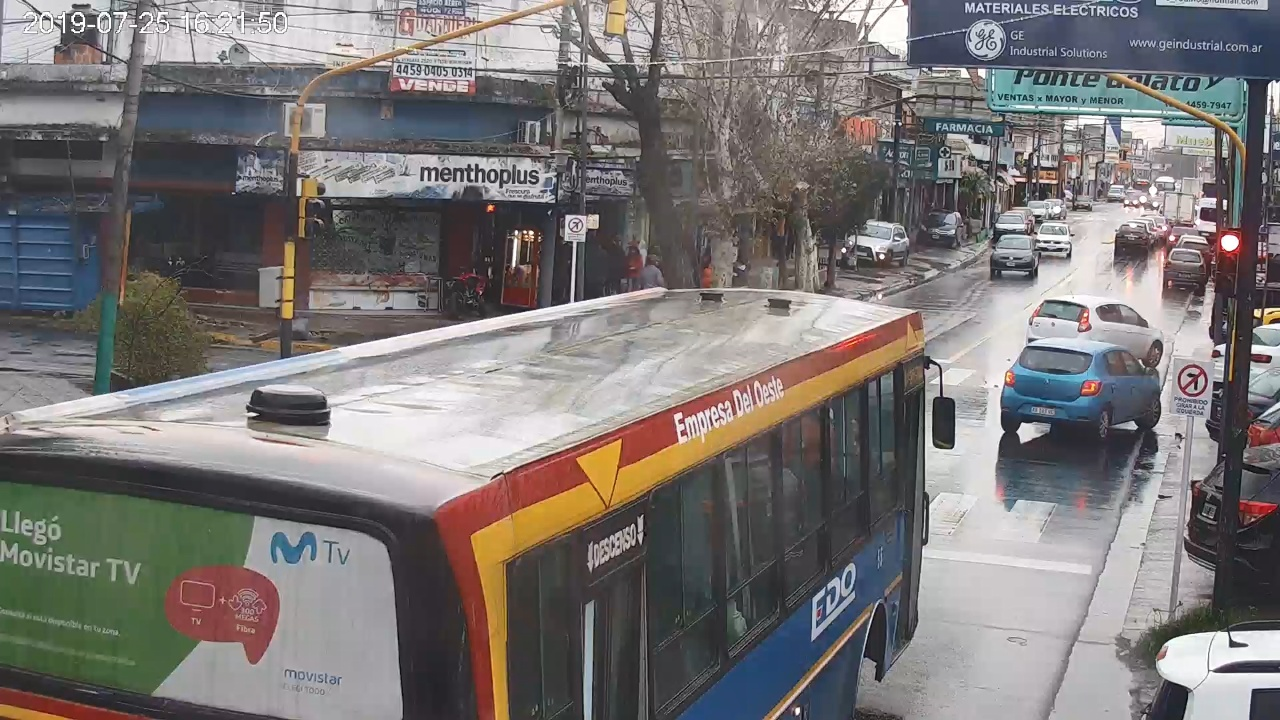bus: (1, 287, 956, 720)
car: (1001, 337, 1161, 439)
traffic light: (1218, 229, 1238, 293)
